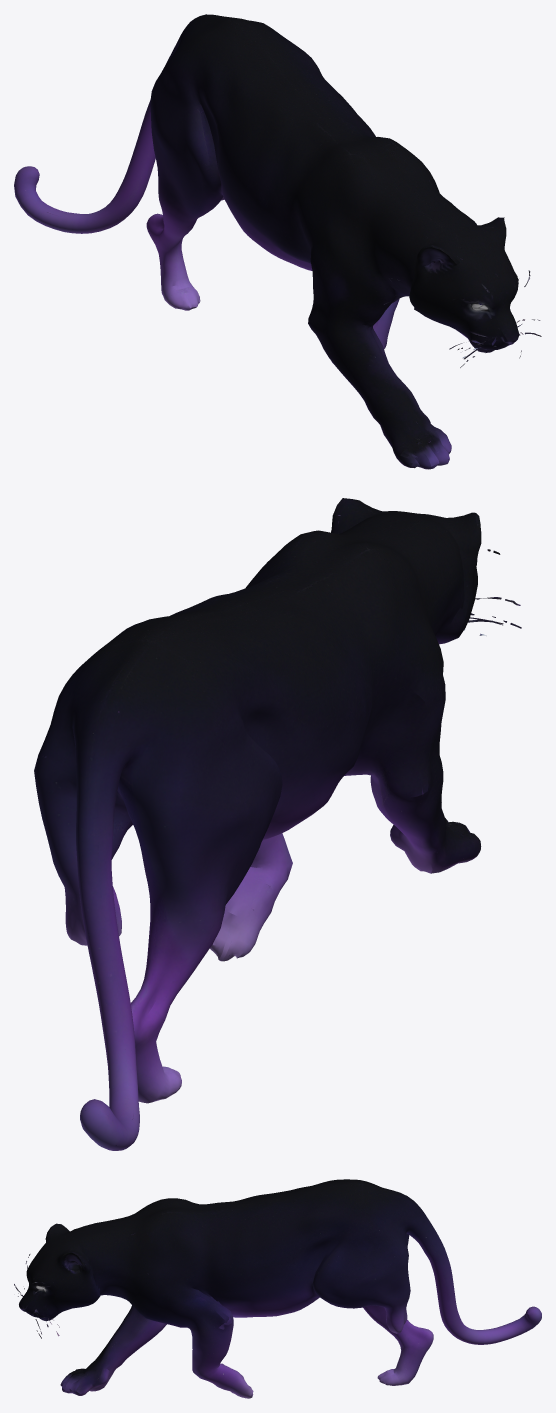
Rendered from umbri_minion.glb.
The picture shows the model from 3 angles, top to bottom: view 1: azimuth 30°, elevation 25°; view 2: azimuth 150°, elevation 25°; view 3: azimuth 270°, elevation 25°; orthographic projection. The views are drawn at different scales.
Size of the model in its own units: 0.5483 by 0.8353 by 1.9.
1 material, 1 textured.
